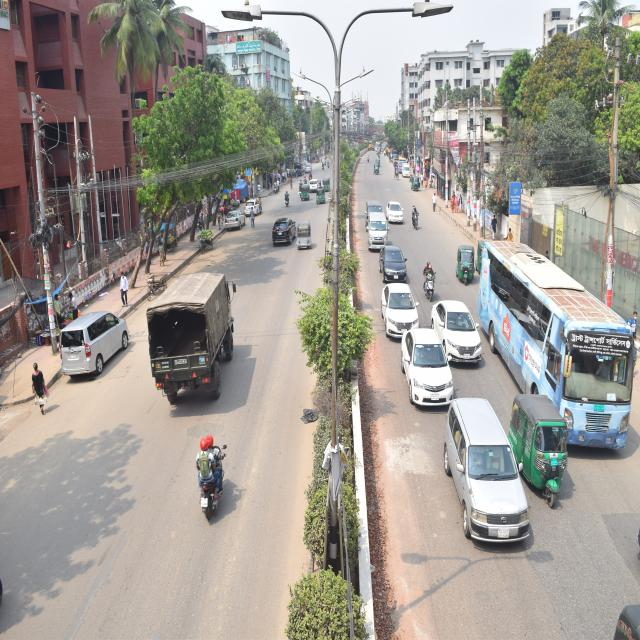bus: (472, 232, 640, 463), (373, 134, 386, 157)
car: (441, 371, 534, 574), (46, 291, 130, 418), (429, 288, 486, 387), (400, 314, 457, 412), (377, 267, 424, 357), (380, 230, 411, 304), (217, 206, 256, 261), (273, 215, 303, 274), (244, 186, 268, 243), (385, 194, 404, 243), (402, 158, 420, 190), (310, 172, 326, 202), (302, 157, 312, 170)
motorbike: (176, 427, 238, 563), (422, 251, 442, 310), (409, 200, 432, 250), (276, 180, 297, 217), (300, 173, 310, 199), (308, 165, 318, 191), (317, 158, 327, 181), (365, 152, 374, 173), (324, 159, 333, 180)
pickup-van: (293, 148, 308, 182), (399, 153, 412, 180)
truck: (139, 264, 248, 410)
